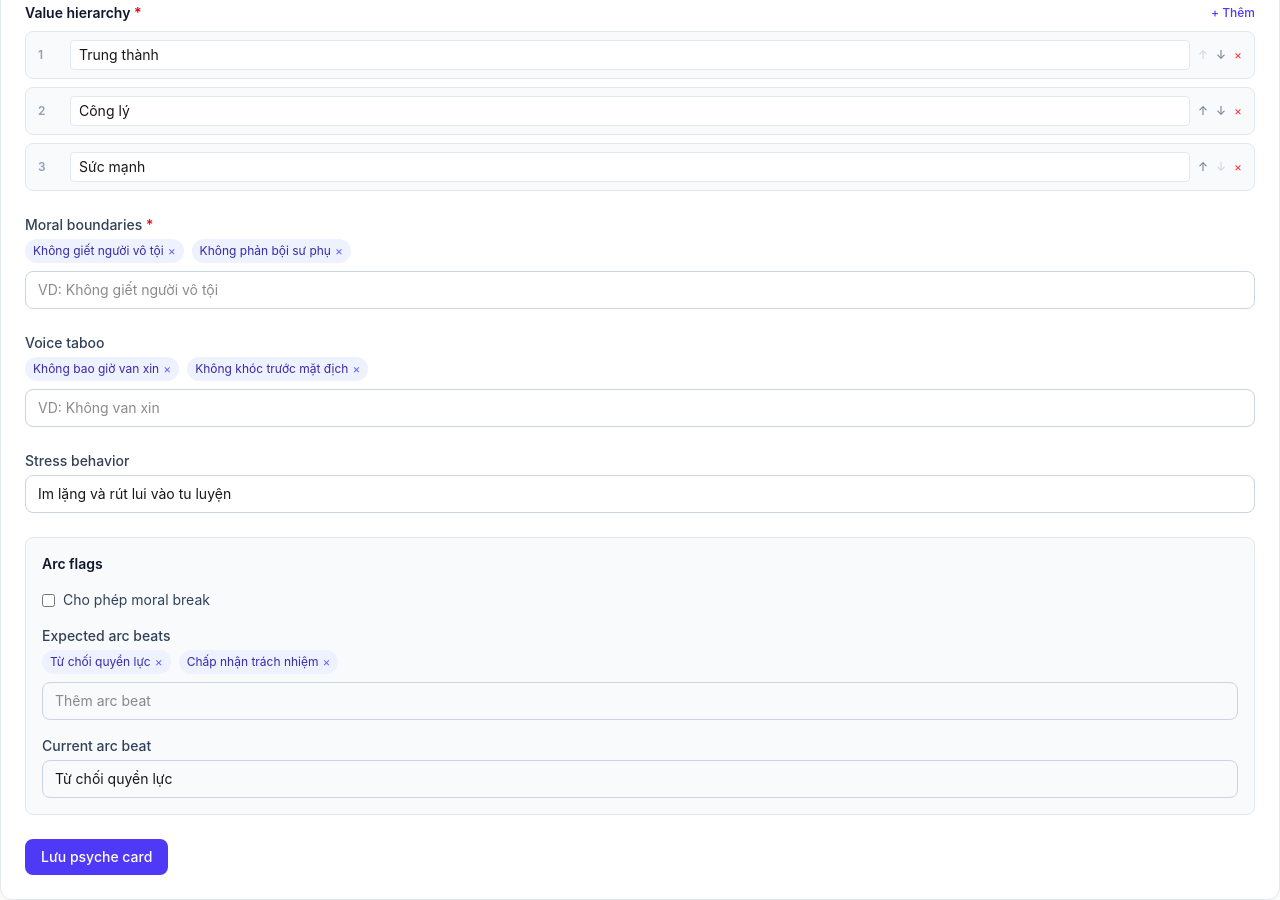
Test case: psyche components › PsycheCardForm handles API 422
The width and height of the screenshot is (1280, 900).
(page scrolled)
What coordinates should you click on to do the following:
click the button "Lưu psyche card"
I would click on:
 (97, 857)
Its box is [25,839,168,875].
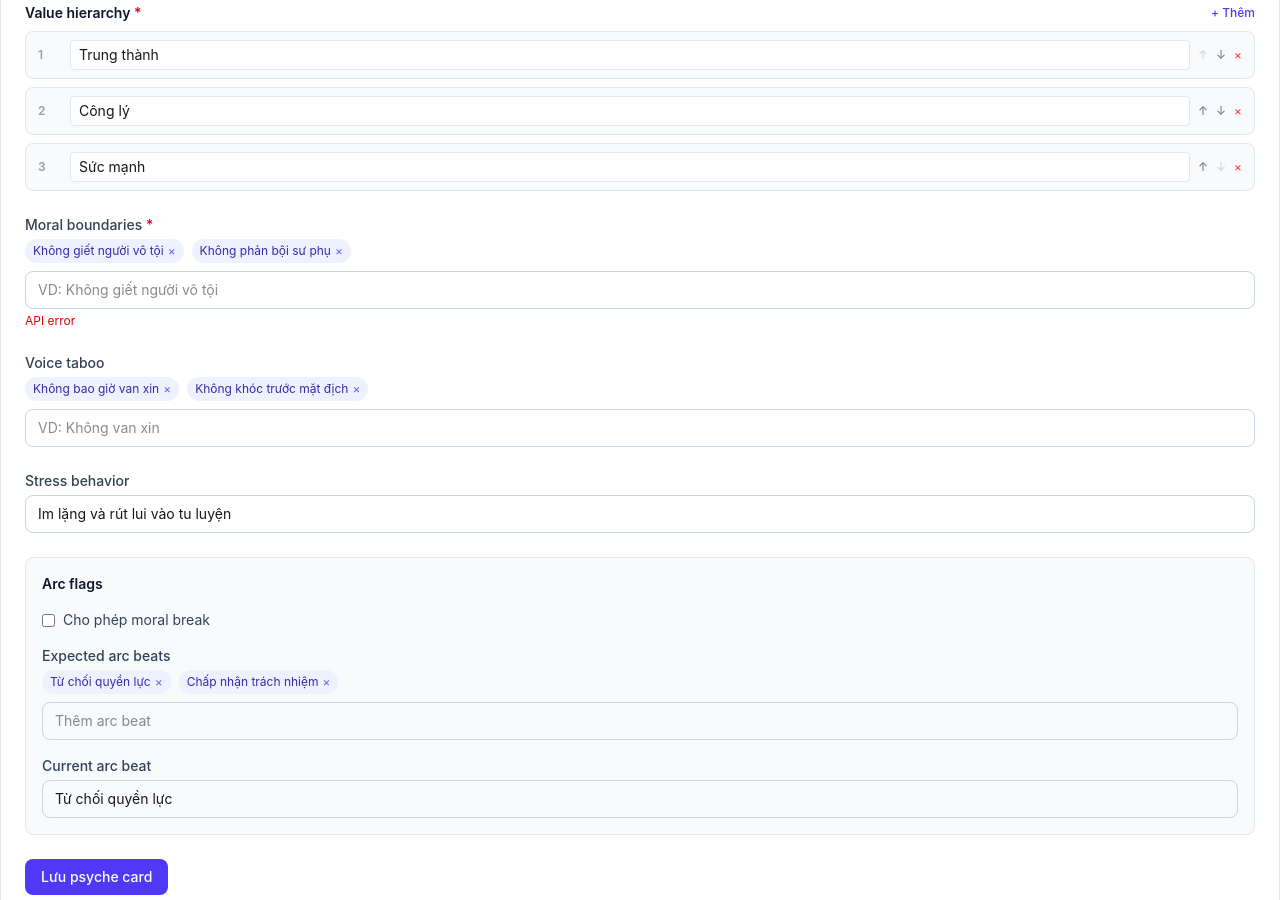
Check: the text "API error" is shown, box [25,313,75,328]
